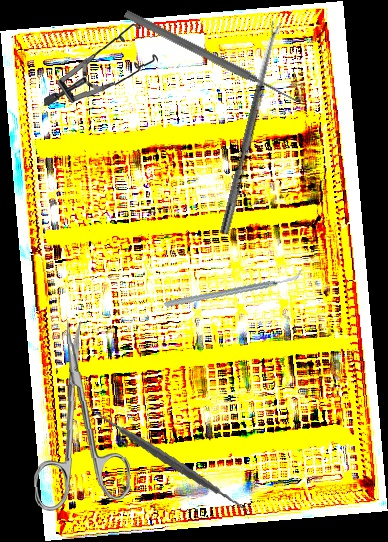Chopper: (163, 242, 304, 335)
Iris Scissors: (28, 318, 132, 512)
Pusher: (122, 8, 299, 106)
Spatula Surgical: (90, 383, 249, 537)
Speculum: (43, 16, 160, 110)
Surgical Spoon: (219, 21, 283, 235)
